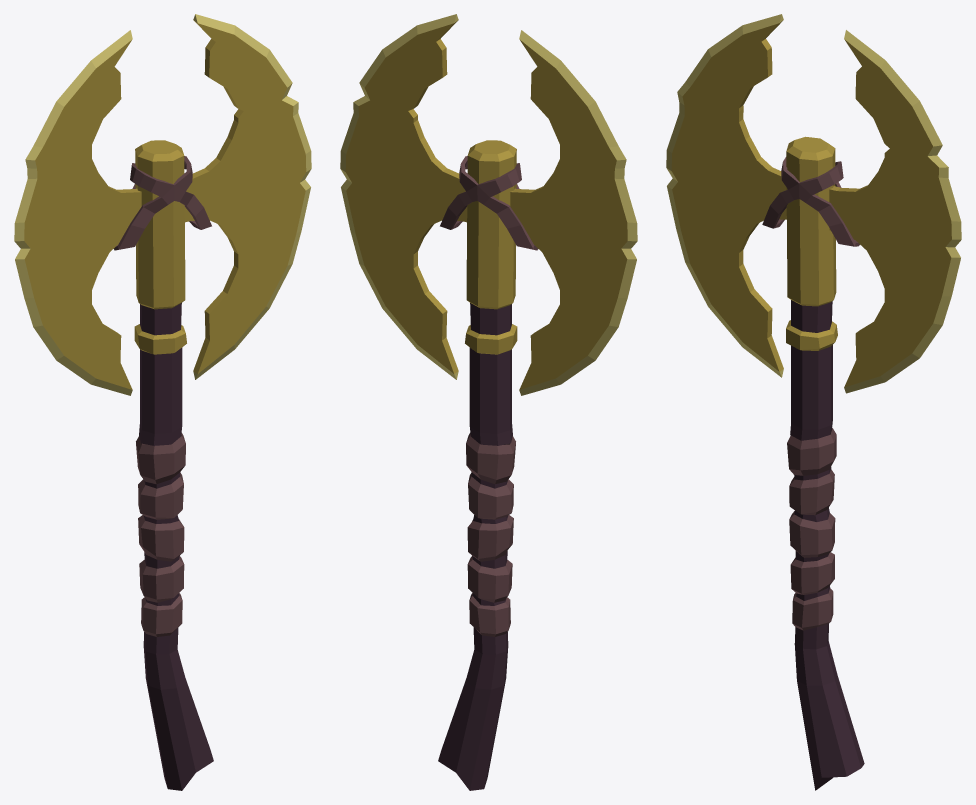
File: Axe_Double_Golden.glb
3 renders of one model, left to right at view 1: azimuth 30°, elevation 25°; view 2: azimuth 150°, elevation 25°; view 3: azimuth 330°, elevation 25°, orthographic.
Visible parts, largest first — view 1: Axe_Double_Golden; view 2: Axe_Double_Golden; view 3: Axe_Double_Golden.
Boxes of the visible parts, x1,y1,x2,y2 form: Axe_Double_Golden: [14, 14, 311, 790]; Axe_Double_Golden: [340, 14, 637, 790]; Axe_Double_Golden: [666, 14, 961, 790].
Size of the model in its own units: 0.2254 by 0.5566 by 0.0351.
